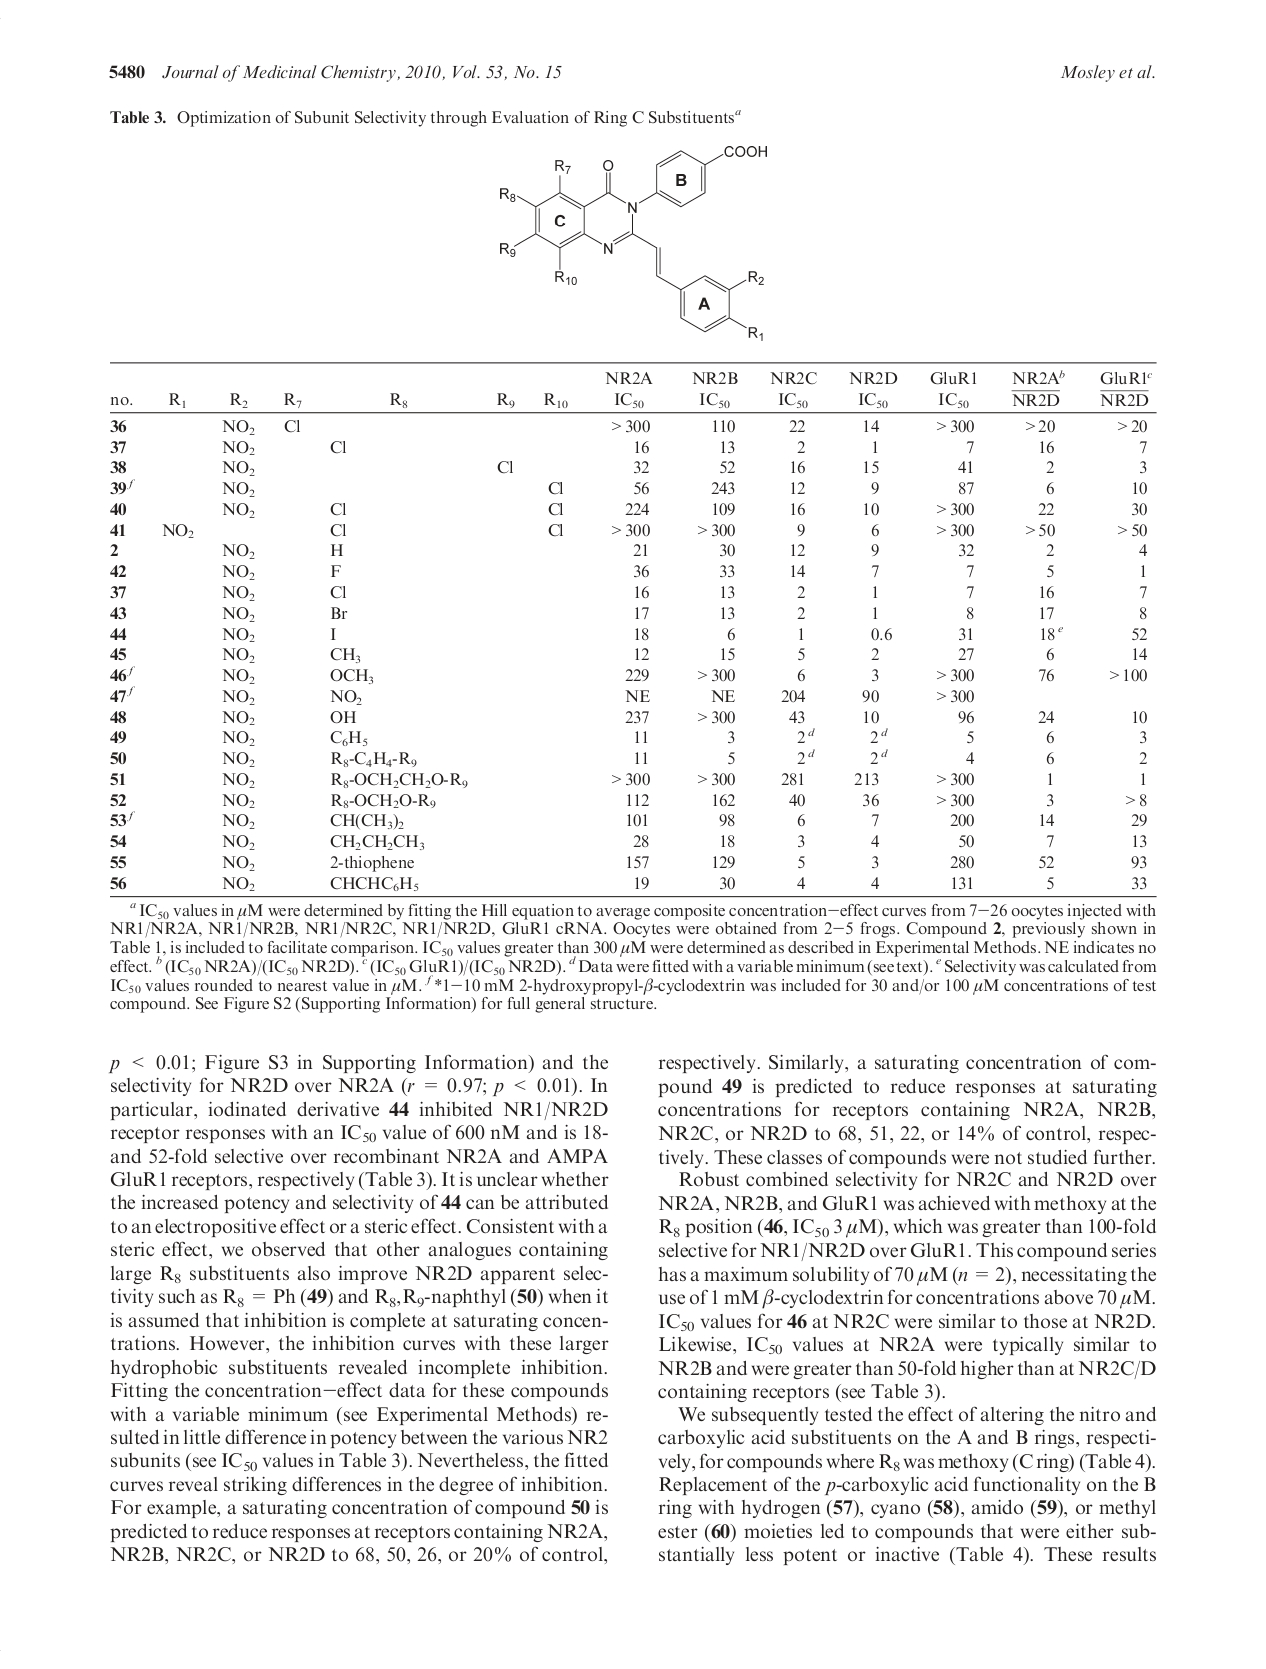exist_molecular: (493, 138, 777, 348)
